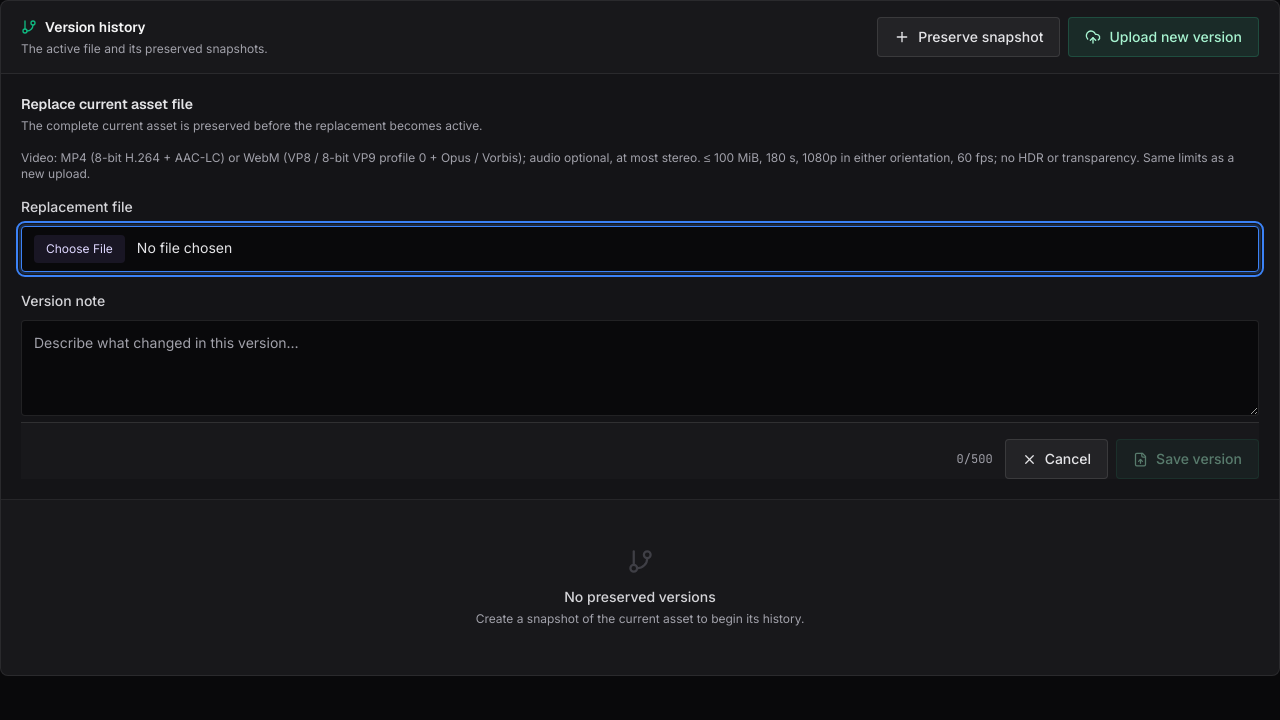
Scenario: version replacement accepts a 100 MiB WebM and rejects a larger file before submission
Earlier steps of the test are not shown.
Later steps or results of the test are not shown.
In the text box labelled "Version note": (640, 368) x1=21 y1=320 x2=1259 y2=416, type "WebM boundary test"
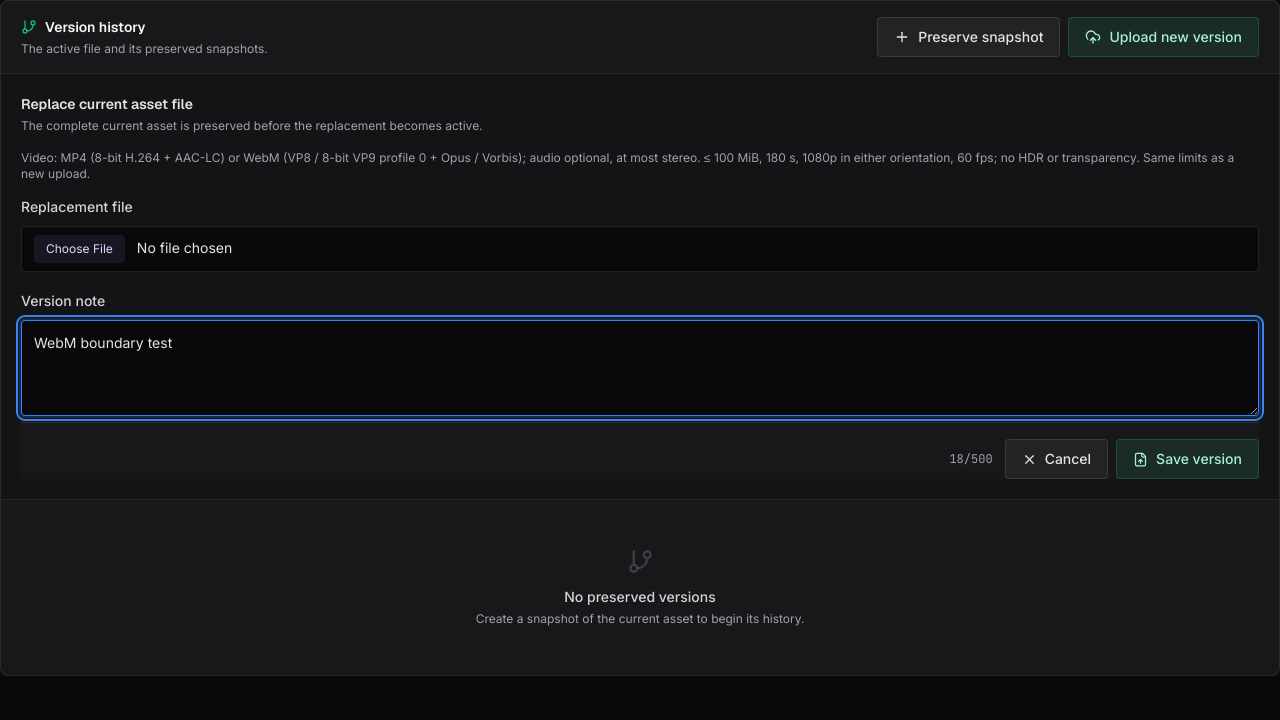
expect the button "Save version" is enabled: met, box x1=1116 y1=439 x2=1259 y2=479
